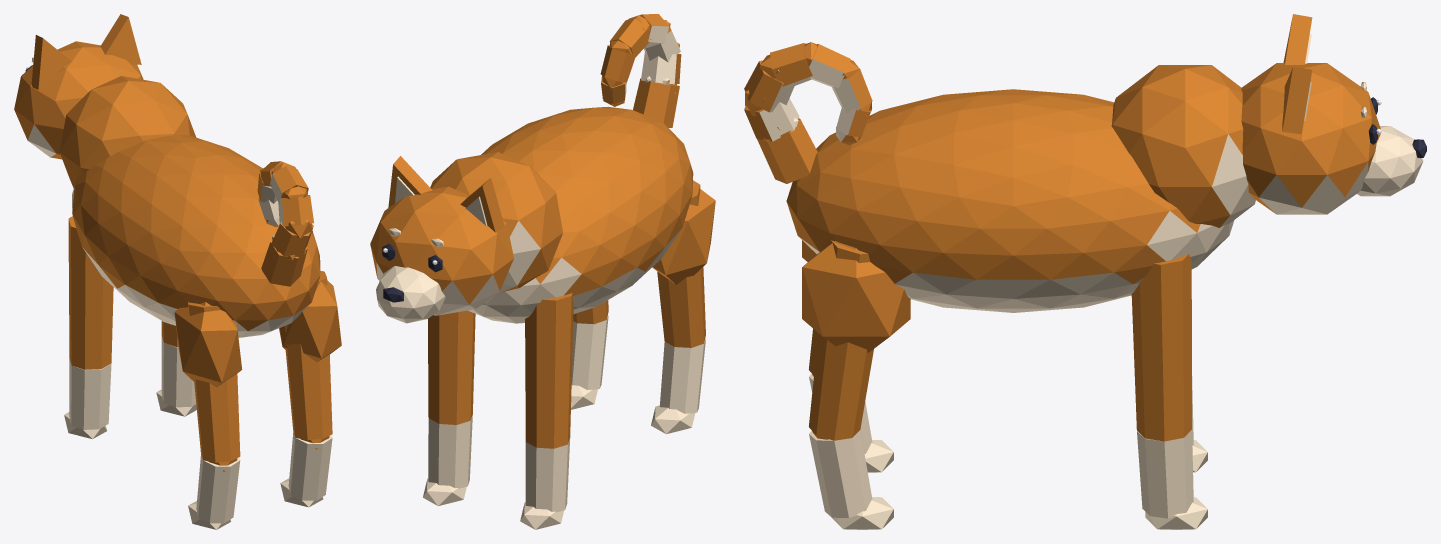
The model's file is dog.glb.
3 renders of one model, left to right at view 1: azimuth 30°, elevation 25°; view 2: azimuth 150°, elevation 25°; view 3: azimuth 270°, elevation 25°, orthographic. The views are drawn at different scales.
Visible parts, largest first — view 1: body, leg_bl, leg_br, head, leg_fl, tail, leg_fr; view 2: body, head, leg_fl, leg_bl, leg_fr, tail, leg_br; view 3: body, head, leg_br, leg_fr, tail, leg_bl.
Part boxes in pixels (box(x1,y1,x2,y2)): body: box(59, 76, 320, 337); leg_bl: box(174, 302, 242, 529); leg_br: box(279, 271, 341, 507); head: box(14, 14, 143, 159); leg_fl: box(64, 216, 113, 438); tail: box(257, 161, 313, 286); leg_fr: box(156, 321, 196, 416); body: box(430, 106, 693, 323); head: box(370, 156, 513, 323); leg_fl: box(520, 293, 573, 529); leg_bl: box(651, 180, 715, 434); leg_fr: box(423, 310, 475, 506); tail: box(600, 14, 681, 127); leg_br: box(571, 300, 608, 409); body: box(786, 65, 1255, 312); head: box(1241, 14, 1426, 214); leg_br: box(802, 240, 910, 529); leg_fr: box(1131, 254, 1207, 529); tail: box(744, 42, 872, 183); leg_bl: box(802, 240, 893, 472).
Bounding box in the file's own units: 21 × 41.72 × 55.63.
